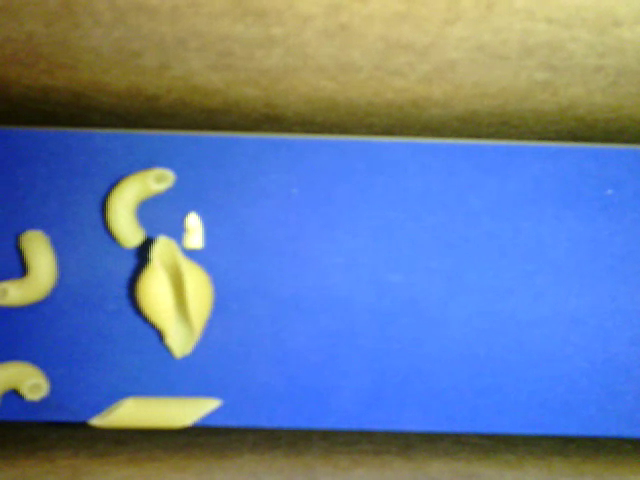elbow: (104, 168, 175, 249), (1, 230, 61, 306), (1, 360, 52, 401)
penne: (84, 396, 223, 428)
shell: (132, 234, 215, 358)
